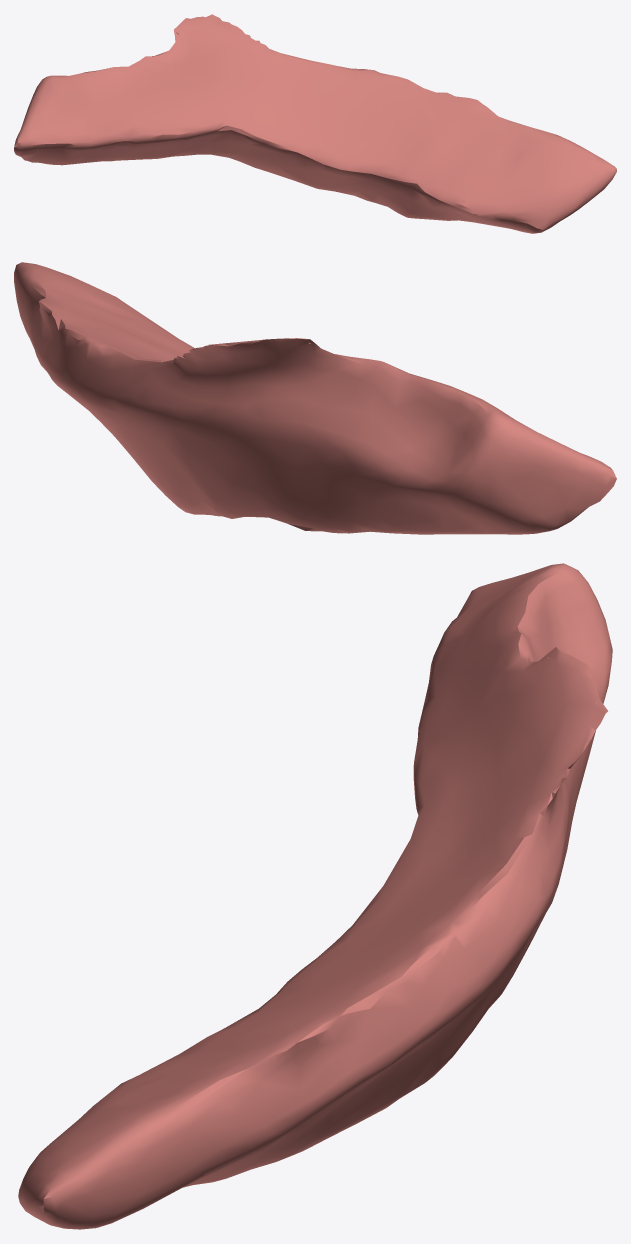
The model's file is fma299387_mm1786.glb.
3 views of the same model, one above another, from view 1: azimuth 30°, elevation 25°; view 2: azimuth 150°, elevation 25°; view 3: azimuth 270°, elevation 25° (orthographic). The views are drawn at different scales.
Visible parts, largest first — view 1: FMA299387_MM1786; view 2: FMA299387_MM1786; view 3: FMA299387_MM1786.
Boxes of the visible parts, bbox=[...] form: FMA299387_MM1786: bbox=[14, 14, 616, 233]; FMA299387_MM1786: bbox=[14, 262, 616, 534]; FMA299387_MM1786: bbox=[18, 563, 612, 1229].
Bounding box in the file's own units: 0.0607 × 0.0208 × 0.0316.
